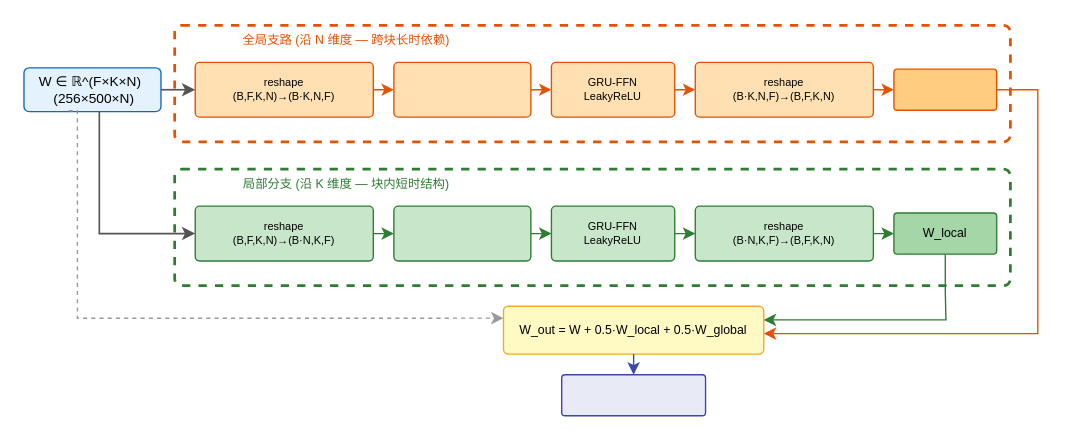
Some shapes in this 1073 by 440 pixel diagram are drawn without their labels. The box of each missing label's shape, as (x1, y1, x2, y2) in pixels:
CE-MHSA 块内自注意力: (393, 205, 531, 261)
CE-MHSA 跨块自注意力: (393, 61, 531, 117)
W_global: (893, 68, 997, 110)
输出: W_out（特征）: (560, 373, 706, 416)
